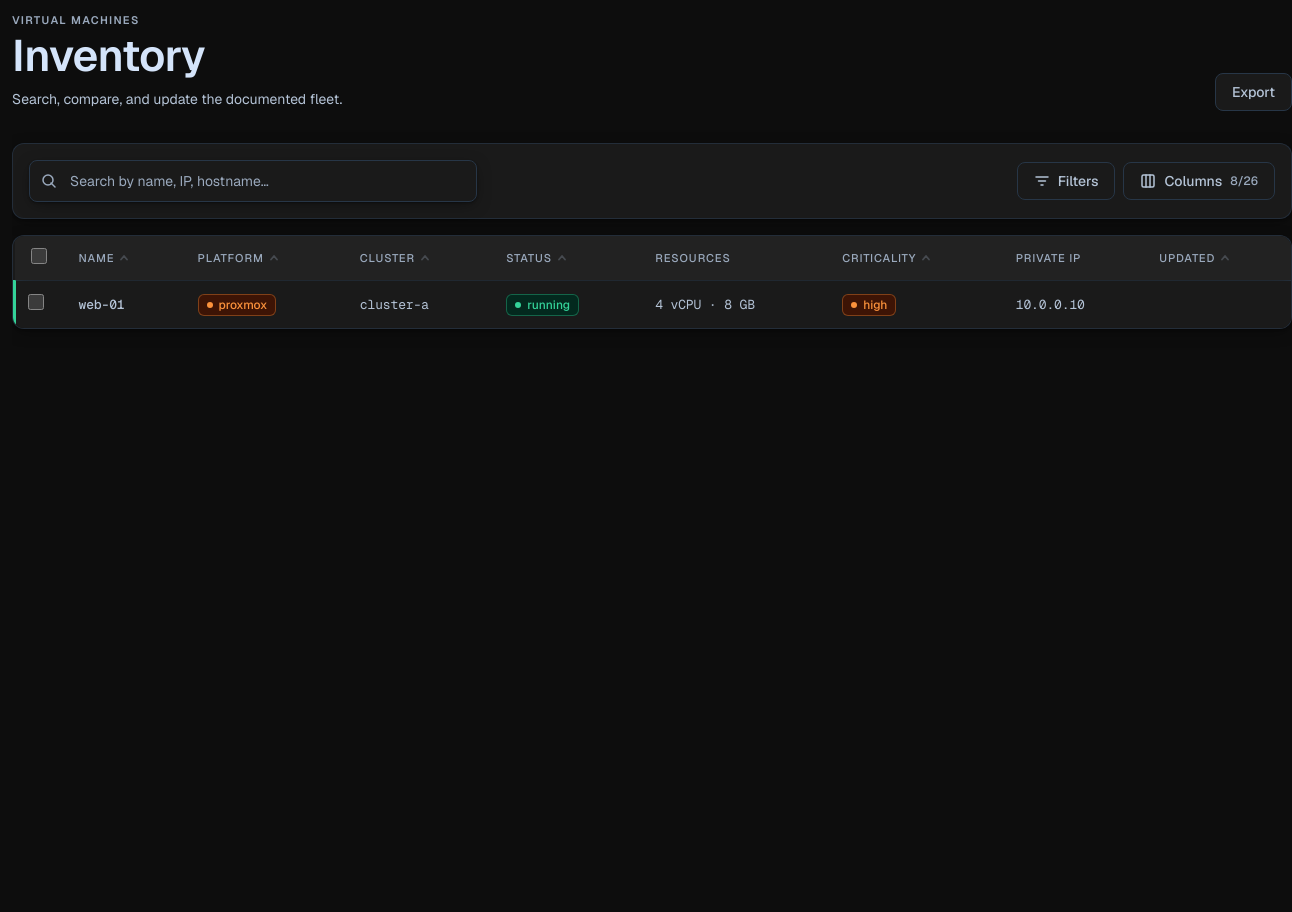
it: InventoryPage › renders no context panel and shows bulk actions when rows are selected
Click the checkbox named "Select web-01": x=36, y=302 [28,294,44,310]
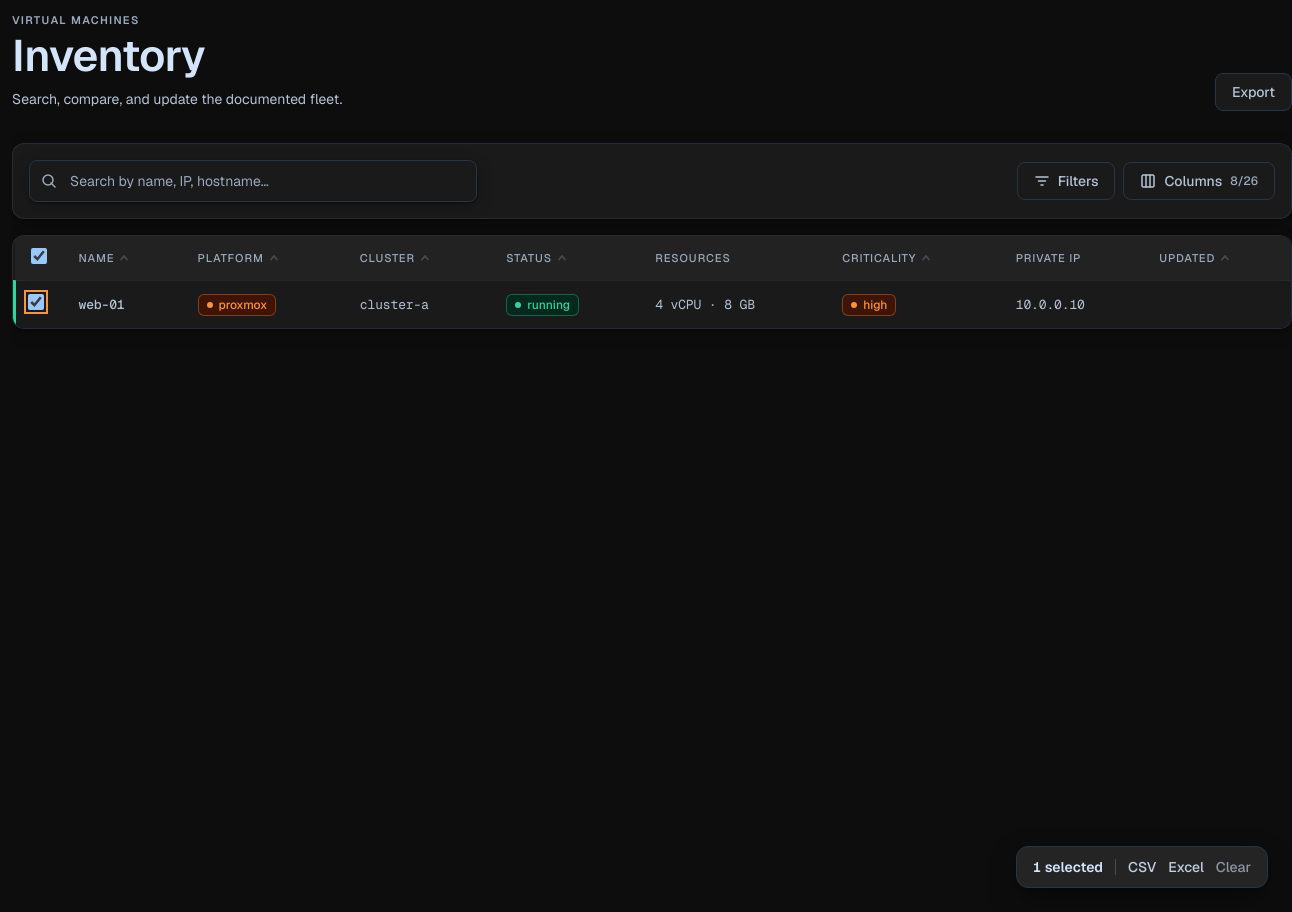
Now the element named "Bulk actions" is shown, box [1016,846,1268,888]
